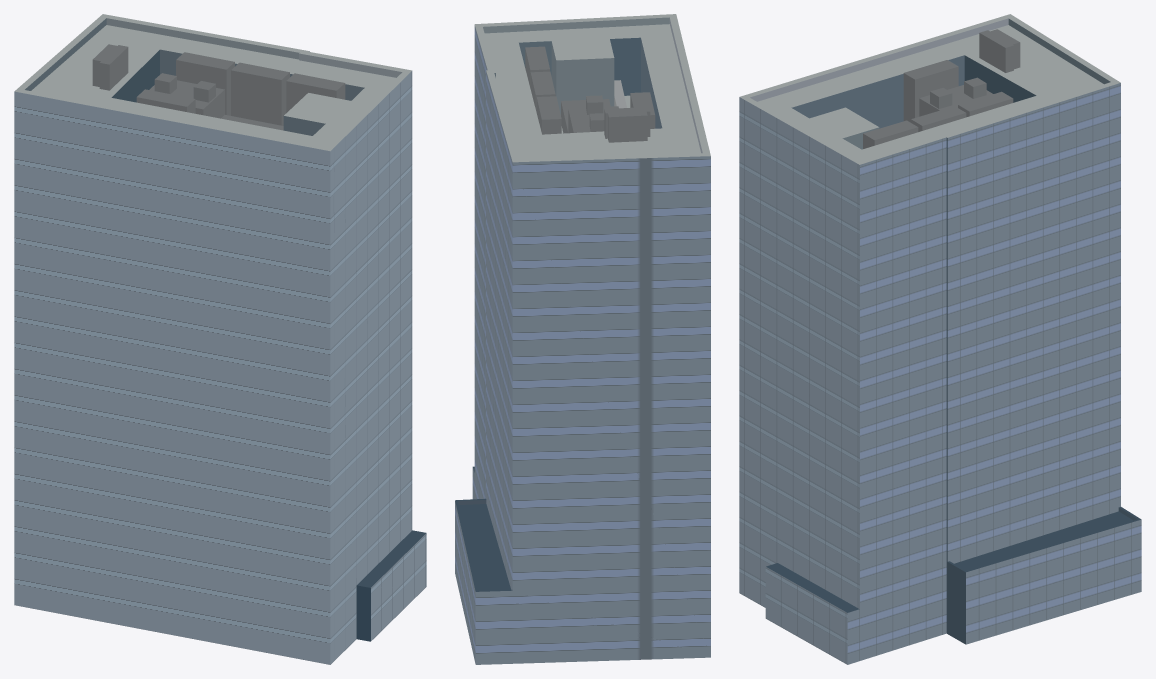
File: shinjuku-mitsui-no2-southeast.glb
3 views of the same model, side by side, from view 1: azimuth 30°, elevation 25°; view 2: azimuth 150°, elevation 25°; view 3: azimuth 270°, elevation 25° (orthographic). The views are drawn at different scales.
Visible parts, largest first — view 1: base-poly-4f7a8af7-de38-4f66-b947-091094f48250, base-poly-41d9f760-7633-42d7-b266-e70a0cab7342, base-poly-498341f8-9f05-4620-9125-95e9792914b1, base-poly-f915b166-3b5e-43f0-b6ee-a71786a93f44, base-poly-6ba1b4fd-eb52-4e66-baca-692e136916cd, base-fme-gen-7607814d-7cd4-4f05-99d3-5beabc5983e7, base-poly-5d38a921-39f6-4272-96cc-eff12776a498, base-poly-37e15c87-7f13-47eb-8ce2-b513c00e3716, base-poly-e0420d55-75c2-40ce-8585-e11480a2204d, base-poly-b824faf9-97c6-4cb6-bbbf-a92f9c897a89, base-fme-gen-e2414ea3-c050-45bf-a749-cc3db8a07065, base-fme-gen-821cf3f9-3b97-4fee-95f1-cfbac6bd4698 (+6 smaller); view 2: base-poly-8f6b1851-5649-4a31-9acd-ad50a79a2422, base-poly-8acbeef3-2647-45e4-9116-8a96c1fd851a, base-poly-498341f8-9f05-4620-9125-95e9792914b1, base-poly-e4fcd0b8-3915-4c3e-a8e9-8ce734546d3d, base-poly-f915b166-3b5e-43f0-b6ee-a71786a93f44, base-poly-b28106b4-e88d-4895-b02f-3446250e4307, base-poly-4421ca29-12b9-4cac-96c3-e0a85e705bf6, base-poly-18515a0b-18e2-4198-b722-383670561f31, base-poly-06e9e0d1-0fc0-4be2-9a68-c0bdb22e2852, base-poly-2a41b152-55cb-4410-8c70-79c26ef99060, base-poly-37e15c87-7f13-47eb-8ce2-b513c00e3716, base-poly-4f4b881d-7751-4b1c-bca5-ef22492846d0 (+5 smaller); view 3: base-poly-8acbeef3-2647-45e4-9116-8a96c1fd851a, base-poly-41d9f760-7633-42d7-b266-e70a0cab7342, base-poly-e4fcd0b8-3915-4c3e-a8e9-8ce734546d3d, base-poly-18515a0b-18e2-4198-b722-383670561f31, base-poly-498341f8-9f05-4620-9125-95e9792914b1, base-poly-6ba1b4fd-eb52-4e66-baca-692e136916cd, base-poly-408f2a03-7cf0-4233-bbf9-61597cfd9629, base-poly-3519d115-dc78-4c6e-af6f-8ff0772a50f2, base-poly-b28106b4-e88d-4895-b02f-3446250e4307, base-poly-f915b166-3b5e-43f0-b6ee-a71786a93f44, base-poly-fc9b39d0-6083-4c60-9566-86fdaa73bc6e, base-poly-e0420d55-75c2-40ce-8585-e11480a2204d (+7 smaller).
Part boxes in pixels (x1,y1,x2,y2): base-poly-4f7a8af7-de38-4f66-b947-091094f48250: (14,91,330,664); base-poly-41d9f760-7633-42d7-b266-e70a0cab7342: (330,71,412,664); base-poly-498341f8-9f05-4620-9125-95e9792914b1: (31,25,395,146); base-poly-f915b166-3b5e-43f0-b6ee-a71786a93f44: (160,37,377,87); base-poly-6ba1b4fd-eb52-4e66-baca-692e136916cd: (371,533,426,640); base-fme-gen-7607814d-7cd4-4f05-99d3-5beabc5983e7: (231,70,281,125); base-poly-5d38a921-39f6-4272-96cc-eff12776a498: (106,18,299,59); base-poly-37e15c87-7f13-47eb-8ce2-b513c00e3716: (14,90,329,150); base-poly-e0420d55-75c2-40ce-8585-e11480a2204d: (111,50,159,102); base-poly-b824faf9-97c6-4cb6-bbbf-a92f9c897a89: (357,530,425,587); base-fme-gen-e2414ea3-c050-45bf-a749-cc3db8a07065: (231,70,267,122); base-fme-gen-821cf3f9-3b97-4fee-95f1-cfbac6bd4698: (176,60,226,114); base-poly-8f6b1851-5649-4a31-9acd-ad50a79a2422: (475,156,710,664); base-poly-8acbeef3-2647-45e4-9116-8a96c1fd851a: (486,71,512,589); base-poly-498341f8-9f05-4620-9125-95e9792914b1: (484,24,700,158); base-poly-e4fcd0b8-3915-4c3e-a8e9-8ce734546d3d: (472,25,487,499); base-poly-f915b166-3b5e-43f0-b6ee-a71786a93f44: (488,42,541,135); base-poly-b28106b4-e88d-4895-b02f-3446250e4307: (459,504,510,590); base-poly-4421ca29-12b9-4cac-96c3-e0a85e705bf6: (556,58,614,114); base-poly-18515a0b-18e2-4198-b722-383670561f31: (455,501,475,663); base-poly-06e9e0d1-0fc0-4be2-9a68-c0bdb22e2852: (610,37,640,95); base-poly-2a41b152-55cb-4410-8c70-79c26ef99060: (483,17,669,33); base-poly-37e15c87-7f13-47eb-8ce2-b513c00e3716: (669,14,710,155); base-poly-4f4b881d-7751-4b1c-bca5-ef22492846d0: (475,14,675,26); base-poly-8acbeef3-2647-45e4-9116-8a96c1fd851a: (947,83,1120,563); base-poly-41d9f760-7633-42d7-b266-e70a0cab7342: (739,97,859,608); base-poly-e4fcd0b8-3915-4c3e-a8e9-8ce734546d3d: (847,137,946,664); base-poly-18515a0b-18e2-4198-b722-383670561f31: (966,519,1141,644); base-poly-498341f8-9f05-4620-9125-95e9792914b1: (757,25,1103,160); base-poly-6ba1b4fd-eb52-4e66-baca-692e136916cd: (765,567,847,664); base-poly-408f2a03-7cf0-4233-bbf9-61597cfd9629: (791,55,964,128); base-poly-3519d115-dc78-4c6e-af6f-8ff0772a50f2: (946,137,965,644); base-poly-b28106b4-e88d-4895-b02f-3446250e4307: (954,511,1133,570); base-poly-f915b166-3b5e-43f0-b6ee-a71786a93f44: (862,95,1047,156); base-poly-fc9b39d0-6083-4c60-9566-86fdaa73bc6e: (750,18,1008,101); base-poly-e0420d55-75c2-40ce-8585-e11480a2204d: (964,55,1036,102).
Size of the model in its own units: 50.72 by 78.69 by 55.74.
28 materials, 2 textured.
